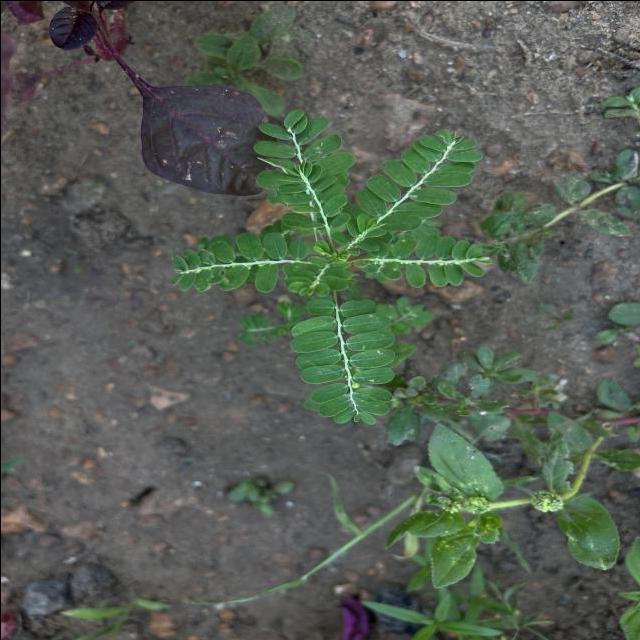Phyllanthus niruri: (354, 124, 486, 238), (286, 297, 397, 426), (252, 106, 348, 240), (163, 228, 300, 295), (352, 230, 496, 288)
